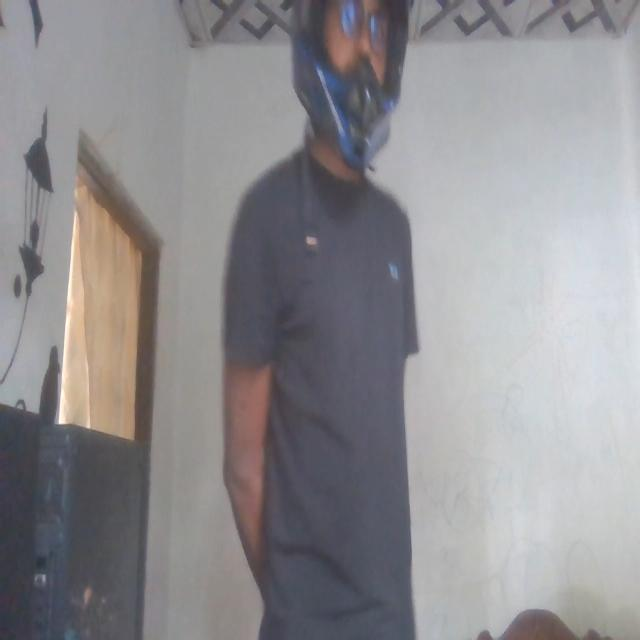Helmet_Wearer: (283, 0, 412, 173)
Person: (231, 0, 440, 640)
